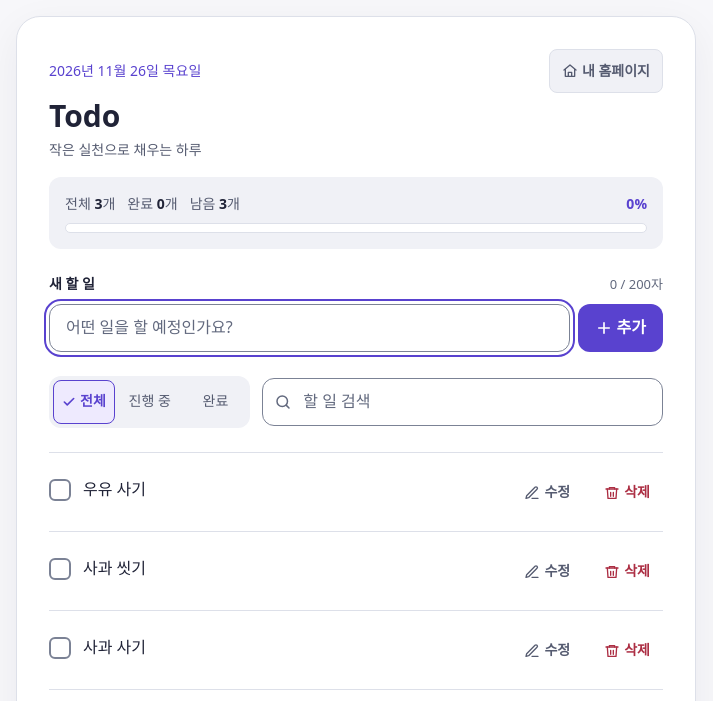
Test case: TodoList 앱 통합 테스트 › 상태 필터와 검색을 교집합으로 적용하고 결과 없음과 검색어 초기화를 처리한다
Earlier steps of the test are not shown.
Later steps or results of the test are not shown.
Click the checkbox labelled "사과 사기" at {"x": 60, "y": 648}, box [49,637,71,659]
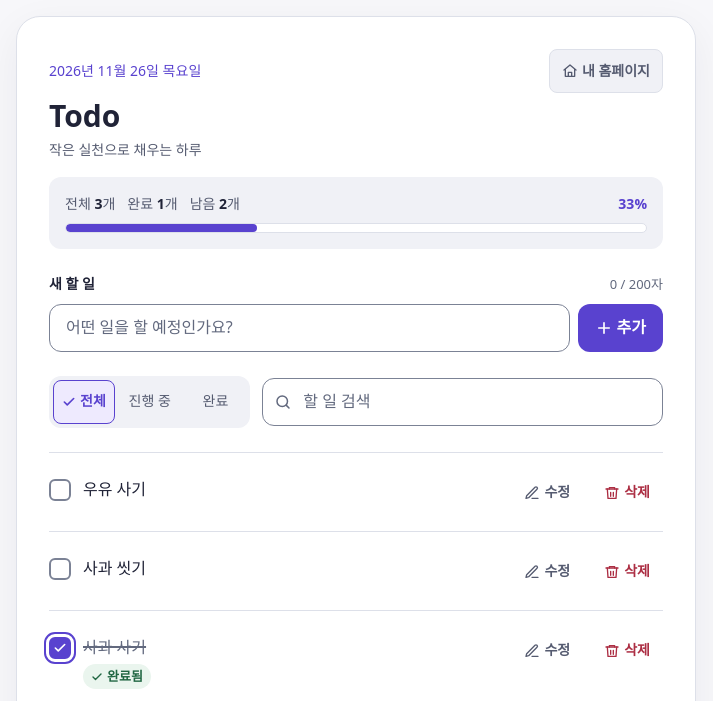
Click the button "완료" at {"x": 215, "y": 402}, box [184,380,246,424]
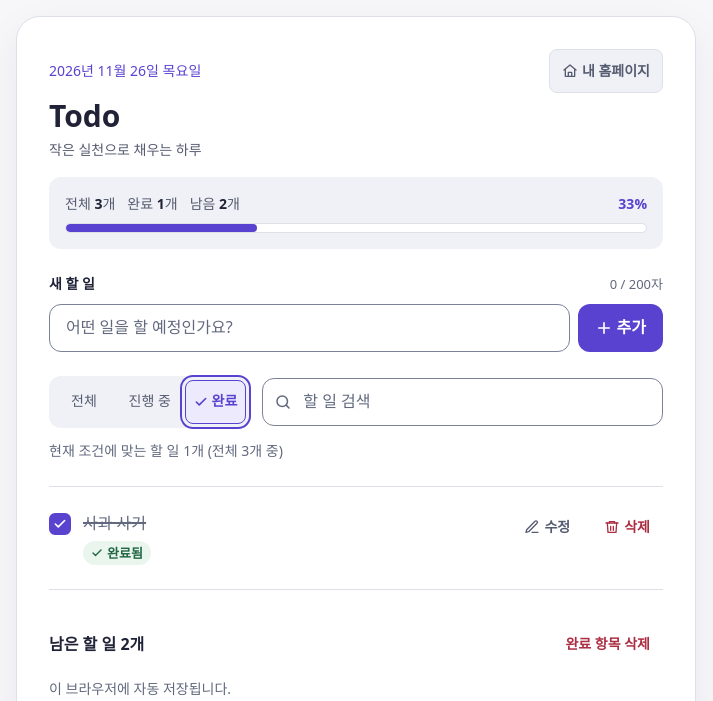
Result: the button "완료" is pressed at [184,380,246,424]
Type "사과" into the search field labelled "할 일 검색" at {"x": 463, "y": 402}, box [262,378,663,426]
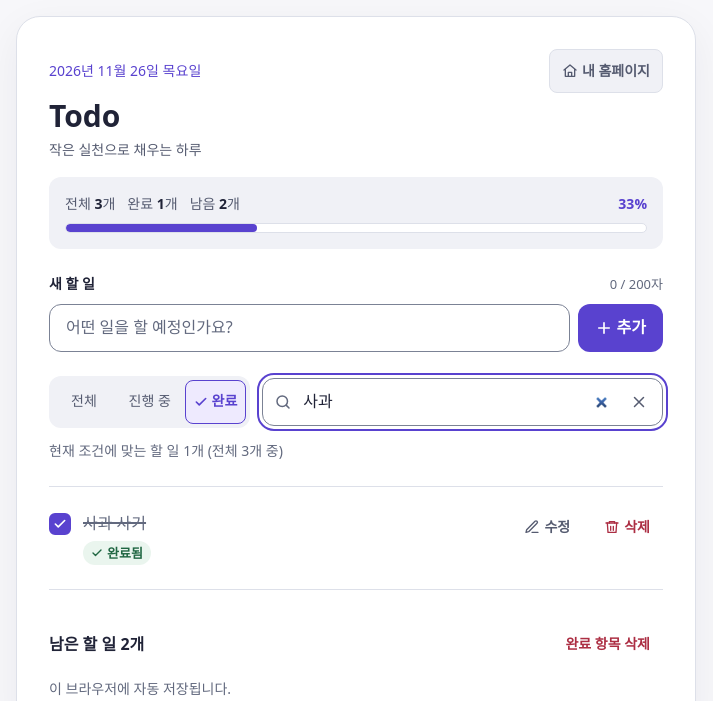
Result: the number of list items is 1 at [49,487,663,590]
Result: the text "사과 사기" is shown at [83,512,146,534]
Note: 완료 필터 상태에서 새 항목 추가 시 숨김 안내 표시
Type "새 할 일" into the field labelled "새 할 일" at {"x": 309, "y": 328}, box [49,304,570,352]
Then press Enter
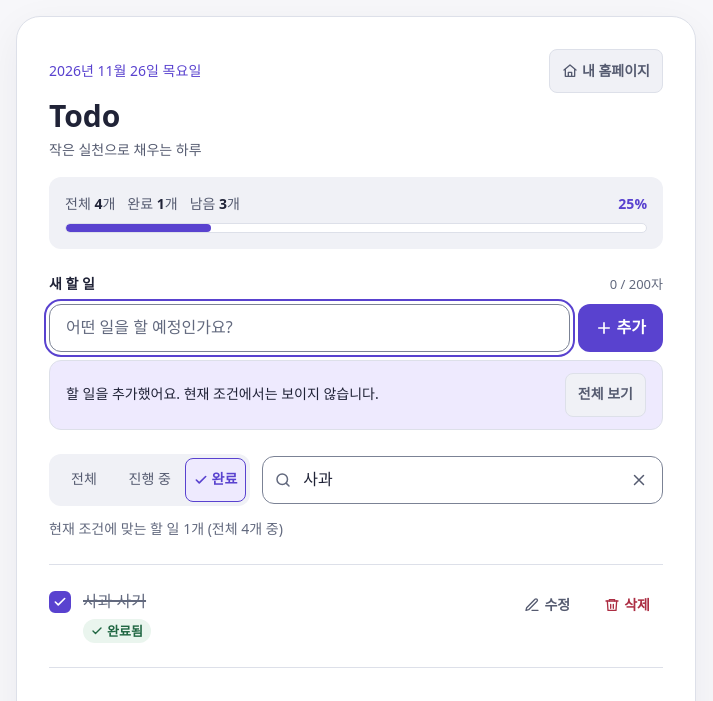
Result: the text "할 일을 추가했어요. 현재 조건에서는 보이지 않습니다." is shown at [66,384,379,406]
Note: 검색 결과 없음 확인 및 검색어 초기화
Clear the search field named "할 일 검색" at {"x": 463, "y": 480}, box [262,456,663,504]
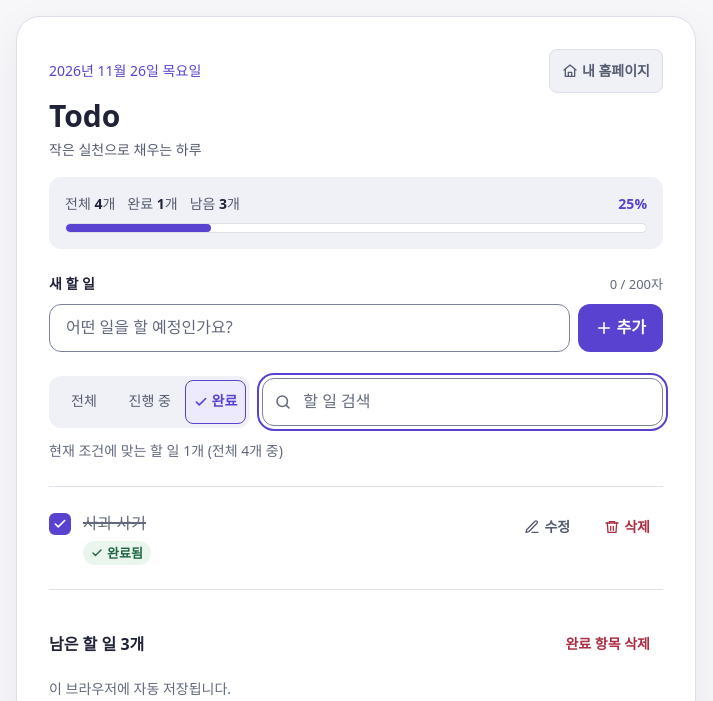
Type "없는단어" into the search field labelled "할 일 검색" at {"x": 463, "y": 402}, box [262,378,663,426]
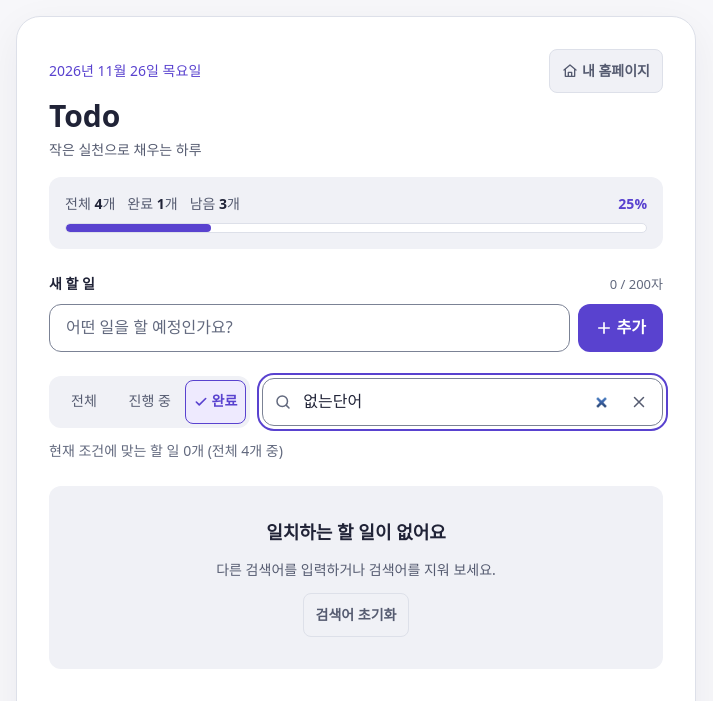
Result: the text "일치하는 할 일이 없어요" is shown at [266,518,446,547]
